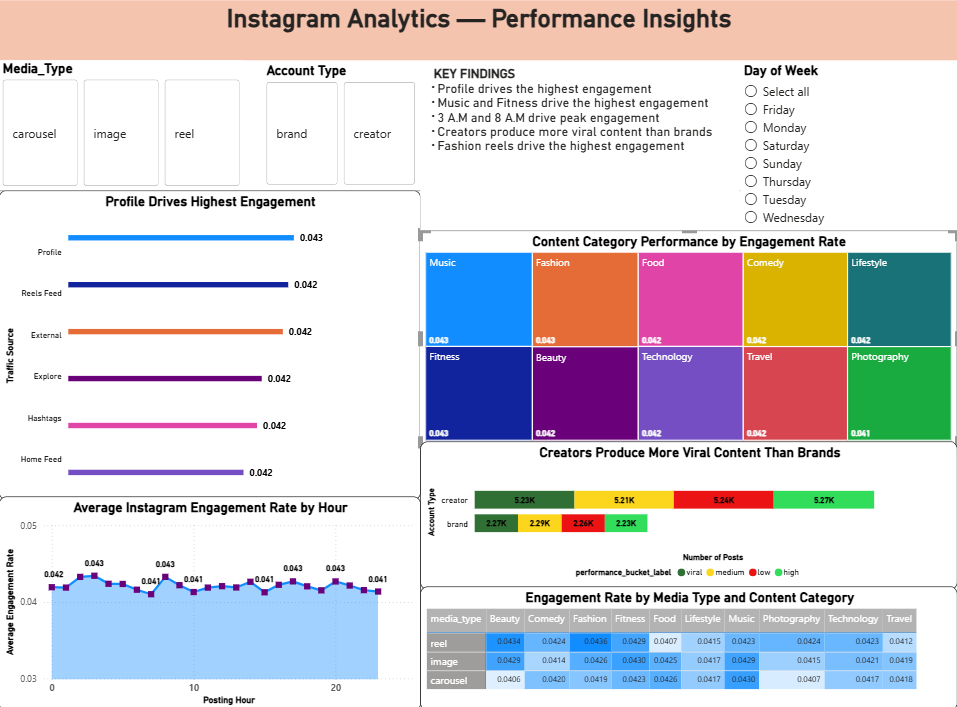

What the dashboard file says about the page in this screenshot:
{"tool":"powerbi","page":{"name":"Page 1","canvas":[1280,950],"ordinal":0},"visuals":[{"type":"group","id":"g1","title":"Group 1","box":[0,254.5,1279.7,695.1],"z":0},{"type":"clusteredBarChart","title":"Profile Drives Highest Engagement","fields":{"Y":["Avg(01_Instagram_Analytics.engagement_rate)"],"Series":["01_Instagram_Analytics.traffic_source"],"Category":["01_Instagram_Analytics.traffic_source"]},"box":[0,254.5,562.5,412.5],"z":0,"group":"g1"},{"type":"textbox","box":[0,2,1280.4,80.4],"z":1000},{"type":"treemap","title":"Content Category Performance by Engagement Rate","fields":{"Group":["01_Instagram_Analytics.content_category"],"Values":["Avg(01_Instagram_Analytics.engagement_rate)","select"]},"box":[560.8,307.9,718.9,289.2],"z":1000,"group":"g1"},{"type":"advancedSlicerVisual","title":"Media_Type","fields":{"Values":["01_Instagram_Analytics.media_type"]},"box":[0,81.2,327.1,172.9],"z":2000},{"type":"areaChart","title":"Average Instagram Engagement Rate by Hour","fields":{"Y":["Avg(01_Instagram_Analytics.engagement_rate)"],"Category":["01_Instagram_Analytics.post_hour"]},"box":[0,662.1,562.5,287.5],"z":2000,"group":"g1"},{"type":"advancedSlicerVisual","title":"Account Type","fields":{"Values":["01_Instagram_Analytics.account_type"]},"box":[352.1,85.4,208.3,168.8],"z":3000},{"type":"barChart","title":"Creators Produce More Viral Content Than Brands","fields":{"Category":["01_Instagram_Analytics.account_type"],"Series":["01_Instagram_Analytics.performance_bucket_label"],"Y":["CountNonNull(01_Instagram_Analytics.post_id)"]},"box":[562.2,590.3,717.6,197.3],"z":3000,"group":"g1"},{"type":"listSlicer","title":"Day of Week","fields":{"Values":["01_Instagram_Analytics.day_of_week"]},"box":[987.8,85.1,291.9,223],"z":4000},{"type":"pivotTable","title":"Engagement Rate by Media Type and Content Category","fields":{"Rows":["01_Instagram_Analytics.media_type"],"Columns":["01_Instagram_Analytics.content_category"],"Values":["Avg(01_Instagram_Analytics.engagement_rate)"]},"box":[562.2,782.2,717.6,166.2],"z":4000,"group":"g1"},{"type":"textbox","box":[562.2,85.1,425.7,223],"z":5000}]}

Visuals, with their boxes in screenshot pixels (x1, y1, x2, y2), scaled from the page's 1280x950 canvas onto the 957x707 screenshot:
"Group 1" group: left=0, top=189, right=956, bottom=706
"Profile Drives Highest Engagement" clusteredBarChart: left=0, top=189, right=421, bottom=496
textbox: left=0, top=1, right=956, bottom=61
"Content Category Performance by Engagement Rate" treemap: left=419, top=229, right=956, bottom=444
"Media_Type" advancedSlicerVisual: left=0, top=60, right=245, bottom=189
"Average Instagram Engagement Rate by Hour" areaChart: left=0, top=493, right=421, bottom=706
"Account Type" advancedSlicerVisual: left=263, top=64, right=419, bottom=189
"Creators Produce More Viral Content Than Brands" barChart: left=420, top=439, right=956, bottom=586
"Day of Week" listSlicer: left=739, top=63, right=956, bottom=229
"Engagement Rate by Media Type and Content Category" pivotTable: left=420, top=582, right=956, bottom=706
textbox: left=420, top=63, right=739, bottom=229
